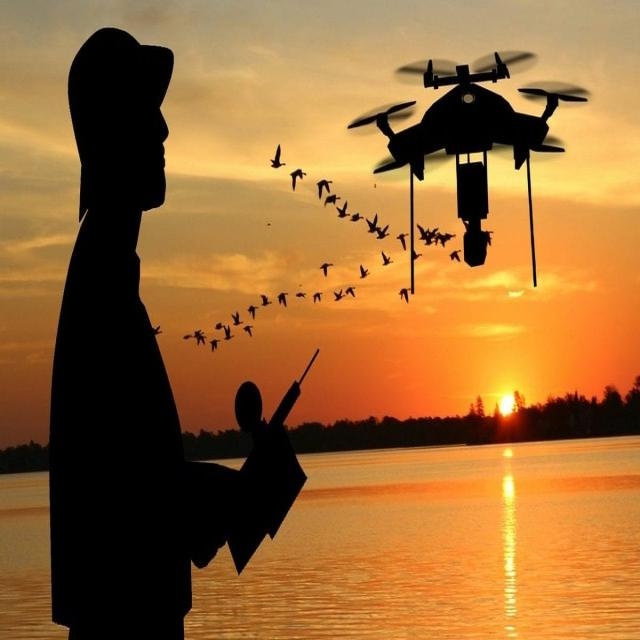drone: (360, 35, 585, 259)
